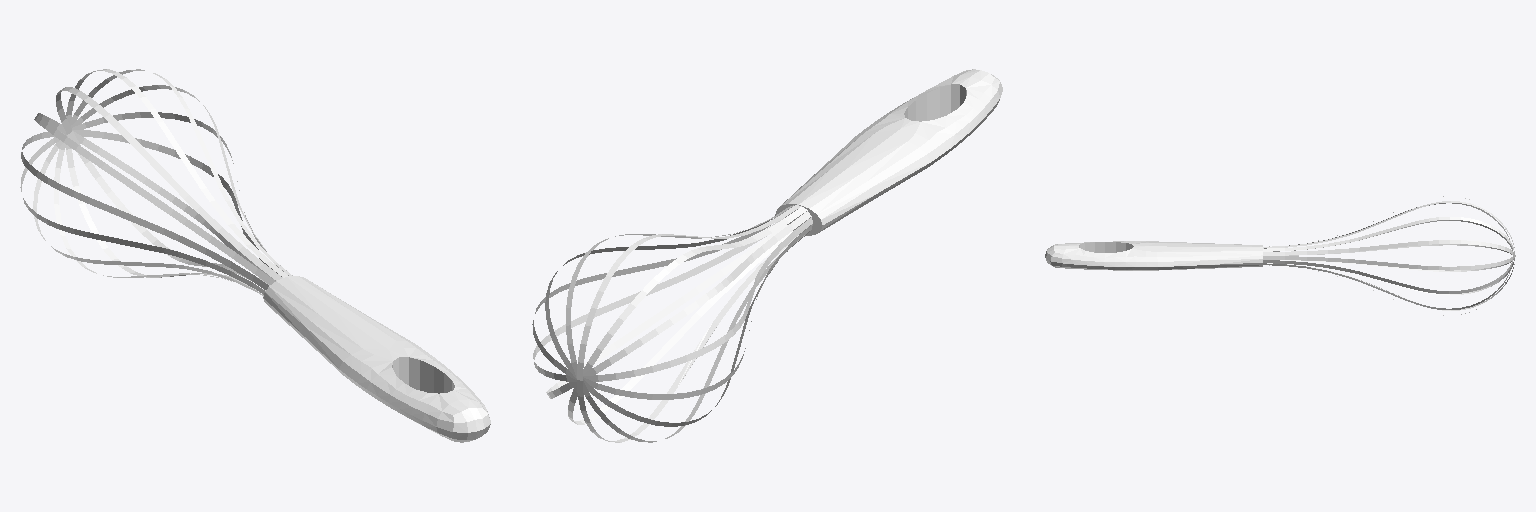
The robot description file, URDF, robot "whisk":
<?xml version="0.0" ?>
<robot name="whisk">
  <link name="base">
  <inertial>
      <origin rpy="0 0 0" xyz="0 0 0"/>
      <mass value="1.0"/>
      <inertia ixx="1" ixy="0" ixz="0" iyy="1" iyz="0" izz="1"/>
  </inertial>
   <visual>
     <origin rpy="0 0 0" xyz="0 0 0"/>
     <geometry>
       <mesh filename="whisk.obj" scale="1 1 1"/>
     </geometry>
      <material name="white">
       <color rgba="1 1 1 1"/>
     </material>
   </visual>
   <collision>
     <origin rpy="0 0 0" xyz="0 0 0"/>
     <geometry>
       <mesh filename="whisk_vhacd.obj" scale="1 1 1"/>
     </geometry>
   </collision>
  </link>
  <link name="grasp">
    <inertial>
      <origin rpy="0 0 0" xyz="0 0 0"/>
       <mass value="0.0"/>
       <inertia ixx="1" ixy="0" ixz="0" iyy="1" iyz="0" izz="1"/>
    </inertial>
  </link>
  <joint name="base__grasp" type="fixed">
    <origin xyz="0.0 0.0 -0.035" rpy="0.0 0.0 0.0"/>
    <parent link="base"/>
    <child link="grasp"/>
  </joint>
</robot>

--- What the picture shows (computed from the rendered views, not written in the file) ---
The picture shows the robot from 3 angles, left to right: view 1: azimuth 30°, elevation 25°; view 2: azimuth 150°, elevation 25°; view 3: azimuth 270°, elevation 25°; orthographic projection.
Robot: whisk — 2 links, 1 joints (1 fixed); root link base; default pose: every joint at zero.
Links seen in each view (by area): view 1: base; view 2: base; view 3: base.
Link boxes in pixels (x1=…): base: x1=20, y1=69, x2=490, y2=442; base: x1=532, y1=69, x2=1002, y2=442; base: x1=1045, y1=196, x2=1515, y2=315.
Size in the robot's own frame: 0.0524 by 0.2097 by 0.0533 metres.
1 mesh visuals loaded from 1 distinct referenced files (1 OBJ).